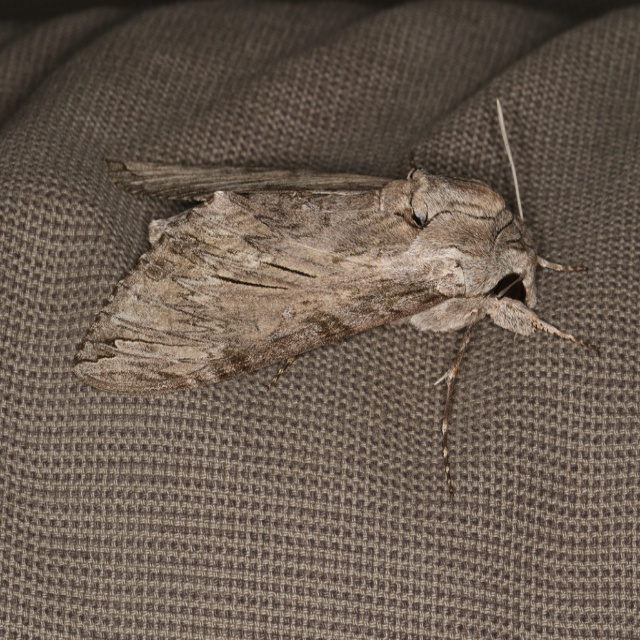Moths and butterflies: (69, 98, 600, 500)
